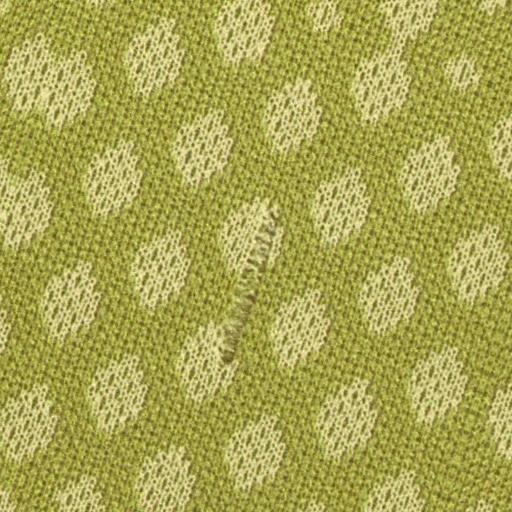slub: (209, 192, 296, 396)
